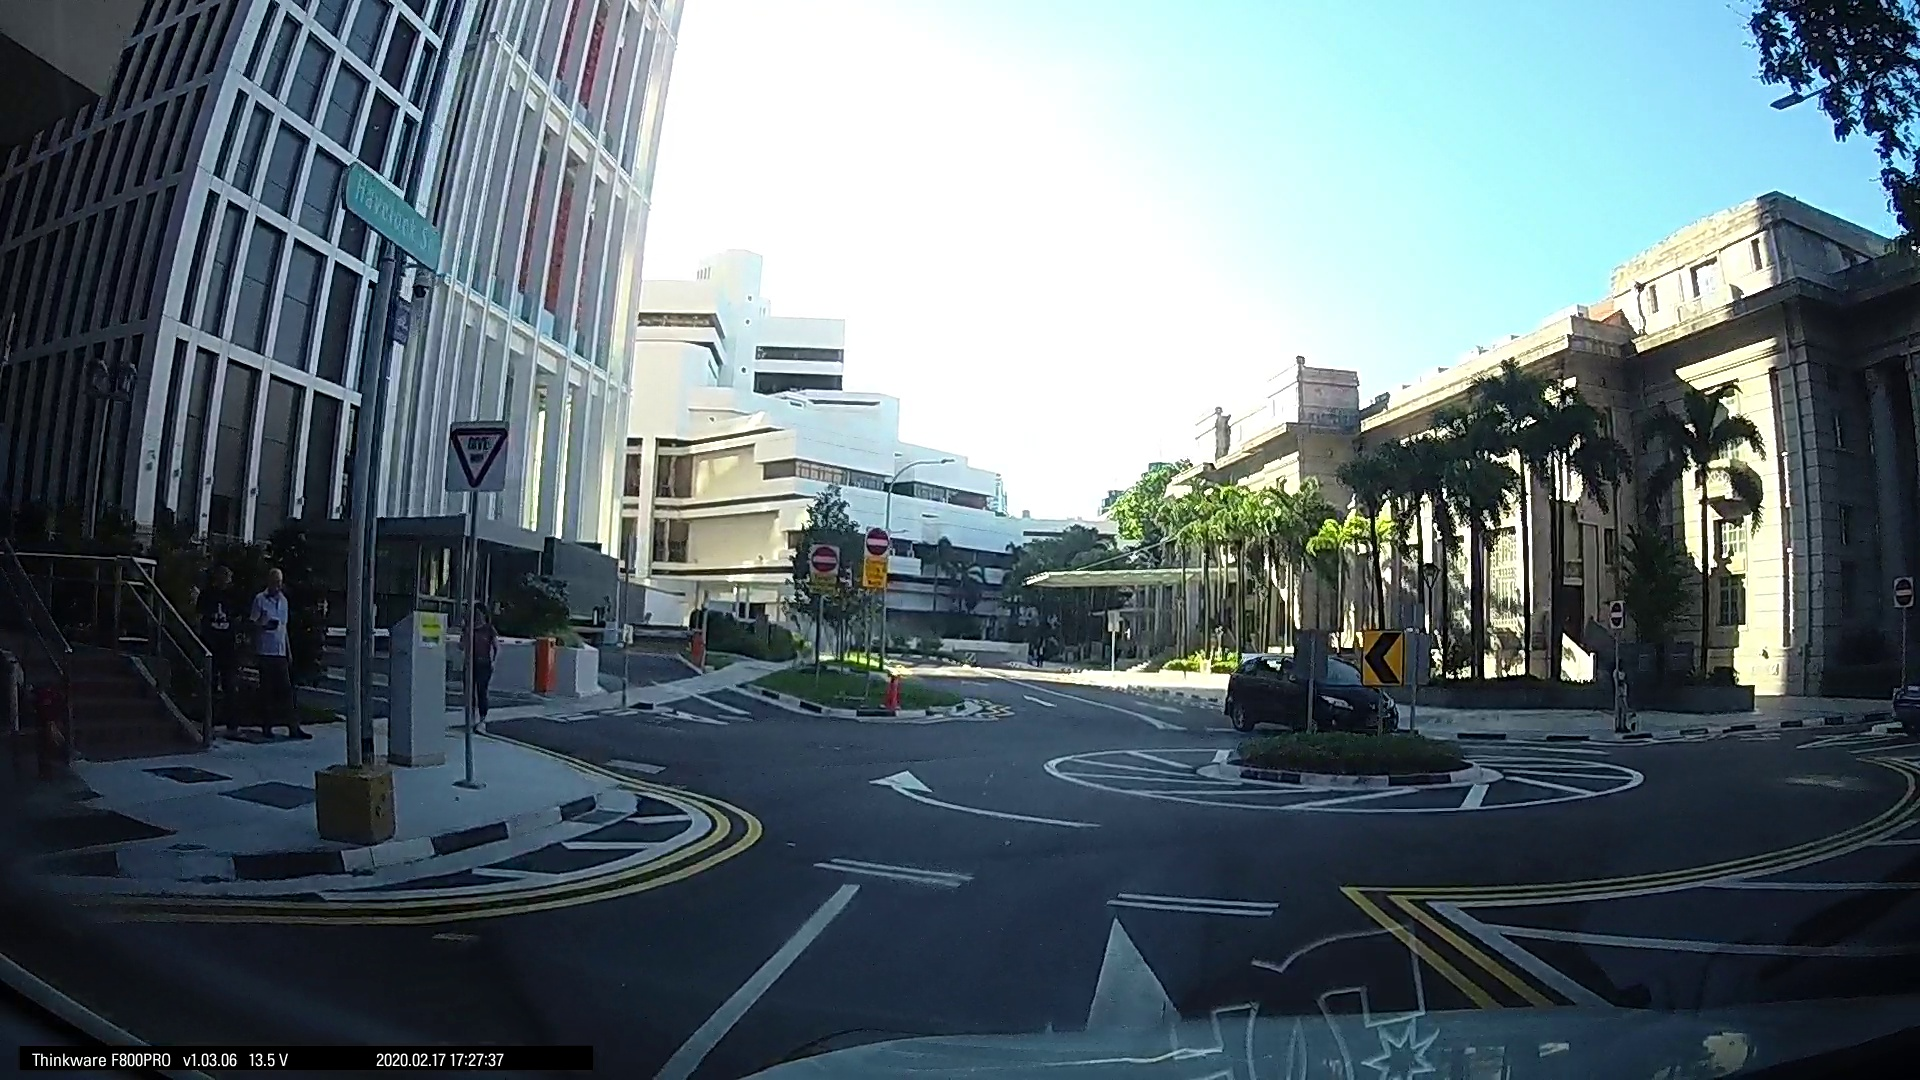Light Vehicle: (1212, 646, 1398, 735)
